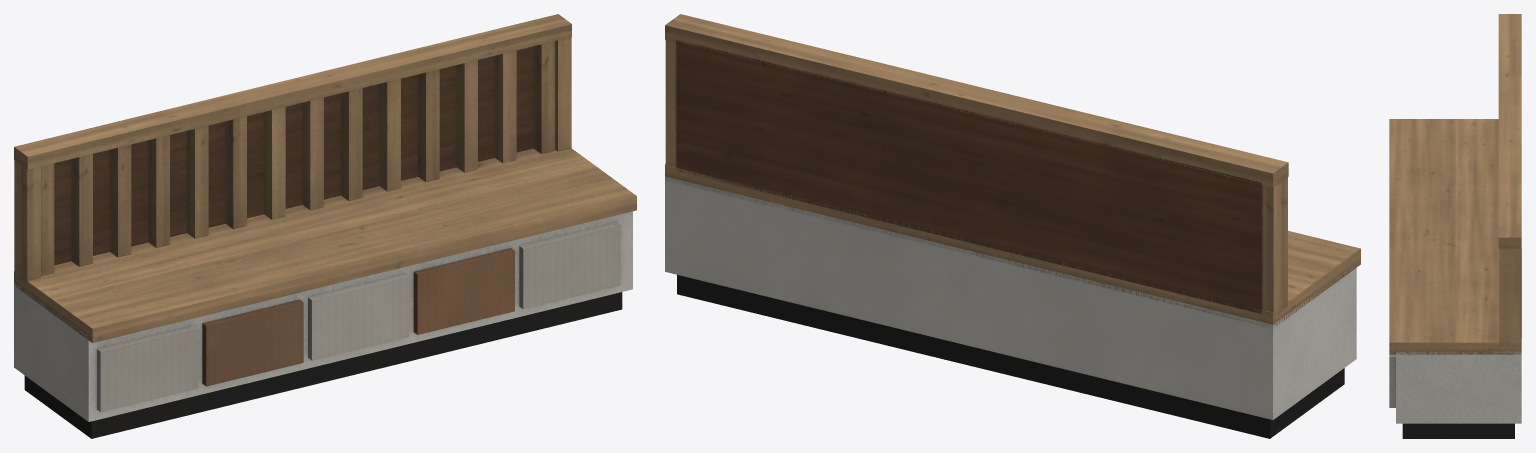
The model's file is H_HallBench_8.fbx.
3 renders of one model, left to right at view 1: azimuth 30°, elevation 25°; view 2: azimuth 150°, elevation 25°; view 3: azimuth 270°, elevation 25°, orthographic. The views are drawn at different scales.
Parts seen in each view (by area): view 1: H_HallBench_8; view 2: H_HallBench_8; view 3: H_HallBench_8.
Boxes of the visible parts, <box> form: H_HallBench_8: <box>14,14,636,438</box>; H_HallBench_8: <box>665,14,1360,438</box>; H_HallBench_8: <box>1389,14,1521,438</box>.
Bounding box in the file's own units: 800 × 340 × 200.
1 material, 1 textured.
